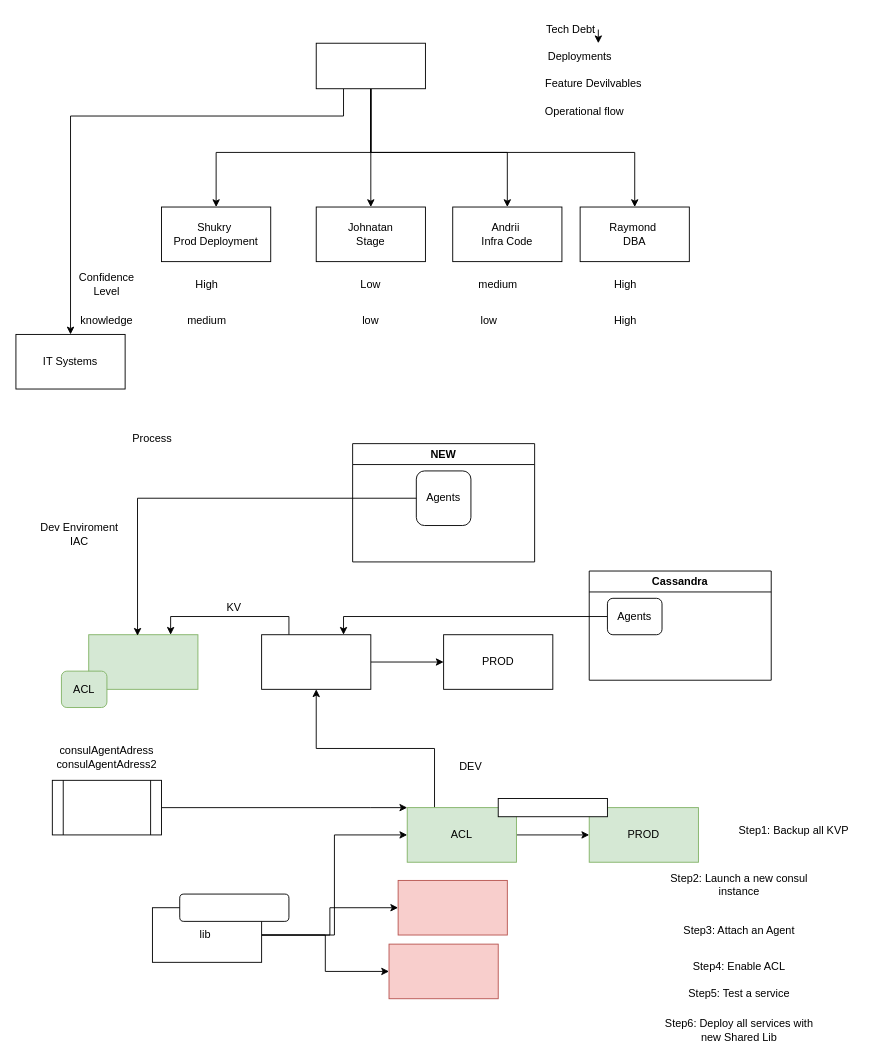
This 887x1059 diagram has some shape labels left out. The shapes that lost their labels are listed below. From the top down, each one's centre as x and y in pixels, then its label:
the point at 370,65: Marius
the point at 143,661: consul new
the point at 316,661: consul old
the point at 106,807: Pipeline
the point at 552,807: consulAgentAdress
the point at 234,907: token: null
